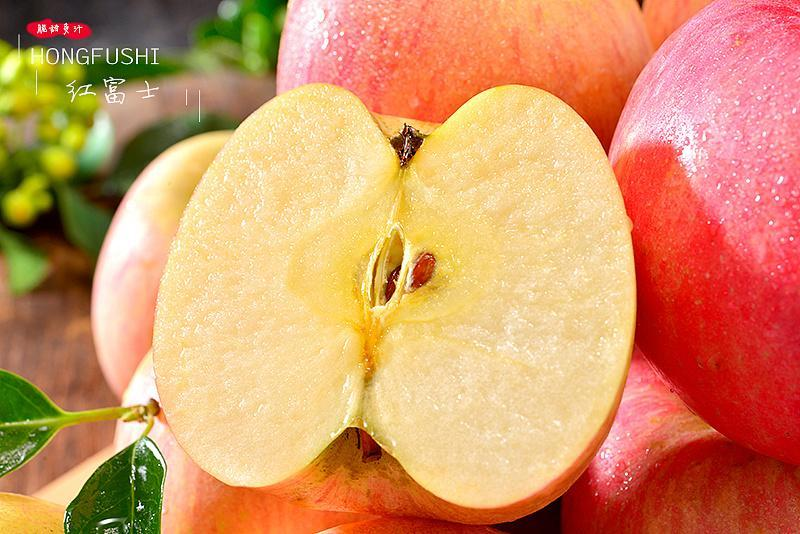apple: (156, 82, 641, 524), (603, 1, 797, 460), (273, 1, 655, 153), (556, 363, 800, 532)
